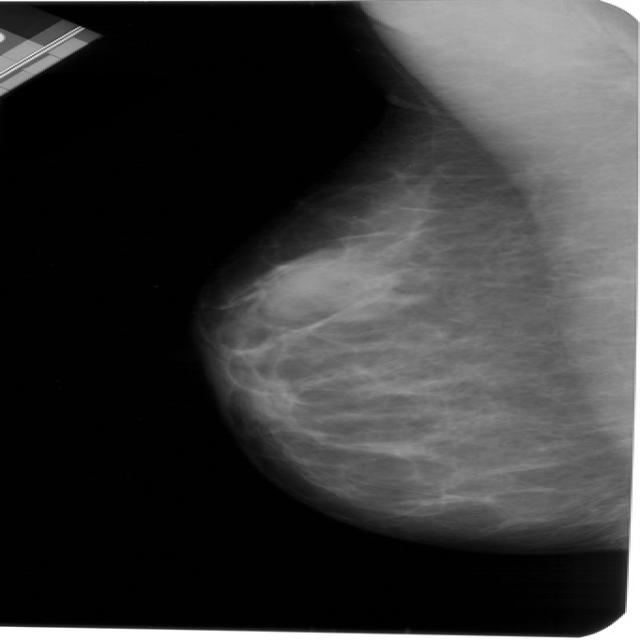tumour: (261, 258, 377, 314)
